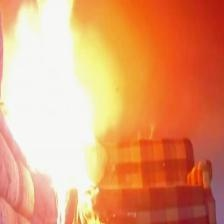fire: (1, 0, 115, 213)
